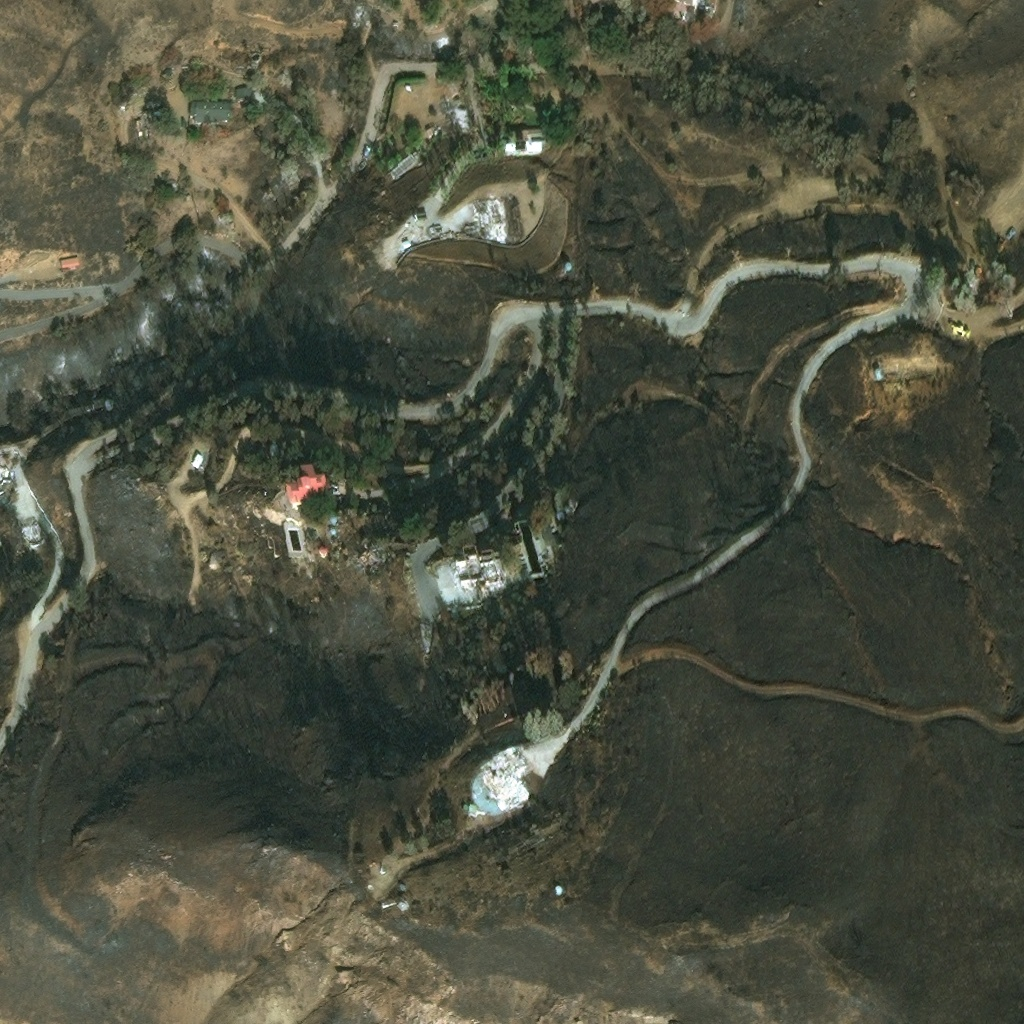0 no-damage: (285, 464, 328, 504), (234, 87, 266, 108), (965, 258, 984, 279), (196, 450, 209, 466), (873, 364, 883, 377)
1 minor-damage: (188, 102, 232, 129), (504, 124, 544, 153), (394, 900, 408, 911), (552, 885, 562, 895), (564, 258, 572, 269)
3 destroyed: (482, 740, 530, 806), (450, 536, 504, 580), (388, 149, 420, 177), (20, 511, 44, 547), (131, 108, 160, 136), (503, 191, 523, 231), (487, 191, 504, 228), (474, 193, 489, 231), (0, 460, 12, 492), (673, 0, 704, 11), (469, 800, 486, 814), (423, 613, 432, 638)
